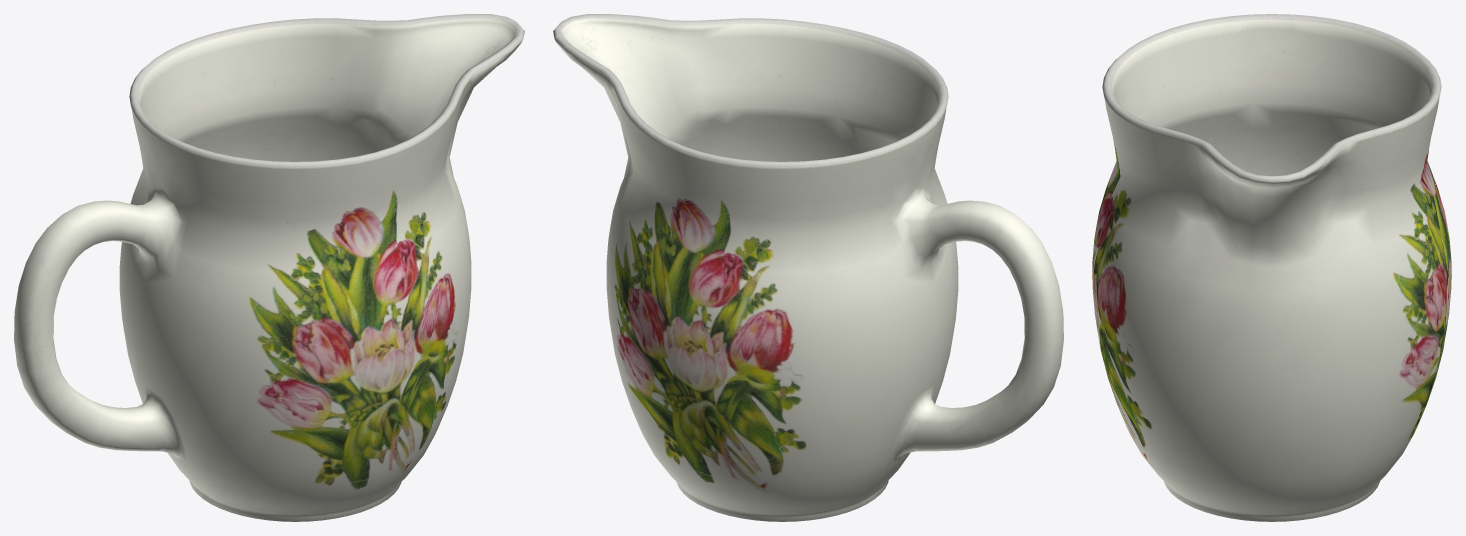
Rendered from jug_01.glb.
3 renders of one model, left to right at view 1: azimuth 30°, elevation 25°; view 2: azimuth 150°, elevation 25°; view 3: azimuth 270°, elevation 25°, orthographic. The views are drawn at different scales.
Visible parts, largest first — view 1: jug_01; view 2: jug_01; view 3: jug_01.
Part boxes in pixels (x1,y1,x2,y2): jug_01: (14, 14, 524, 521); jug_01: (553, 14, 1063, 521); jug_01: (1092, 14, 1451, 521).
Bounding box in the file's own units: 0.2753 × 0.2113 × 0.1675.
Materials: 1 (1 with a texture image).
